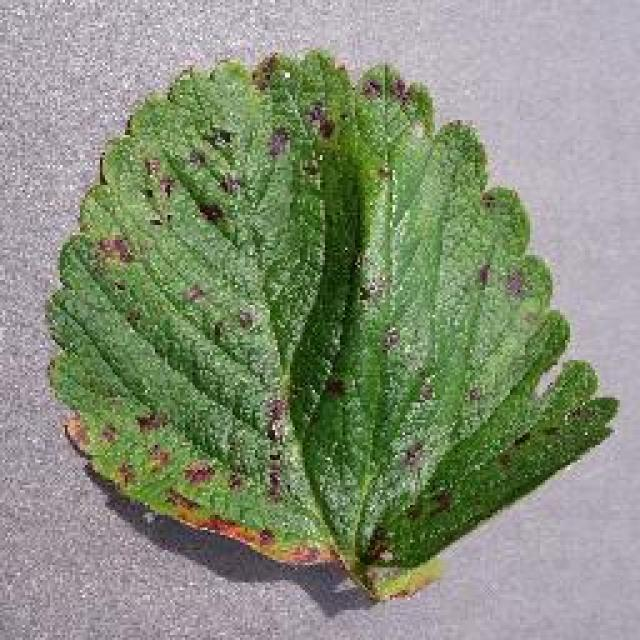Strawberry leaf scorch: (113, 153, 462, 482)
